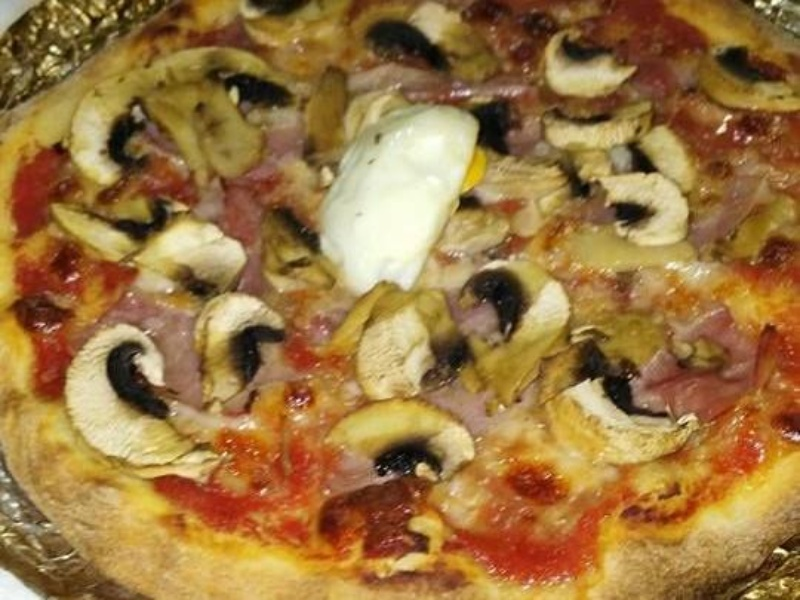champignon: (60, 37, 311, 194), (58, 322, 197, 478), (533, 342, 704, 467), (352, 284, 482, 405), (329, 389, 487, 488), (184, 294, 294, 407), (536, 23, 650, 111), (597, 166, 697, 251)
